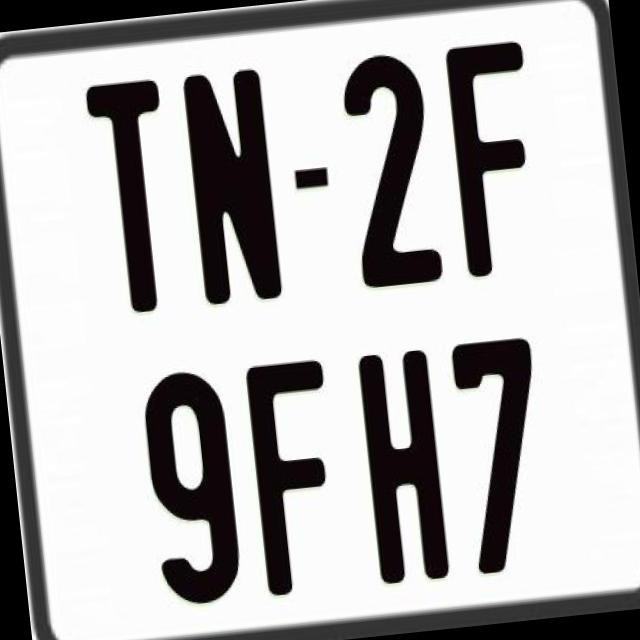2: (338, 49, 442, 290)
7: (450, 331, 560, 574)
9: (138, 362, 246, 610)
F: (442, 35, 550, 276), (242, 353, 350, 592)
H: (353, 345, 452, 589)
N: (180, 62, 282, 304)
T: (80, 73, 183, 314)
